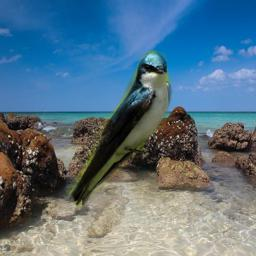Swallow: (66, 50, 173, 212)
